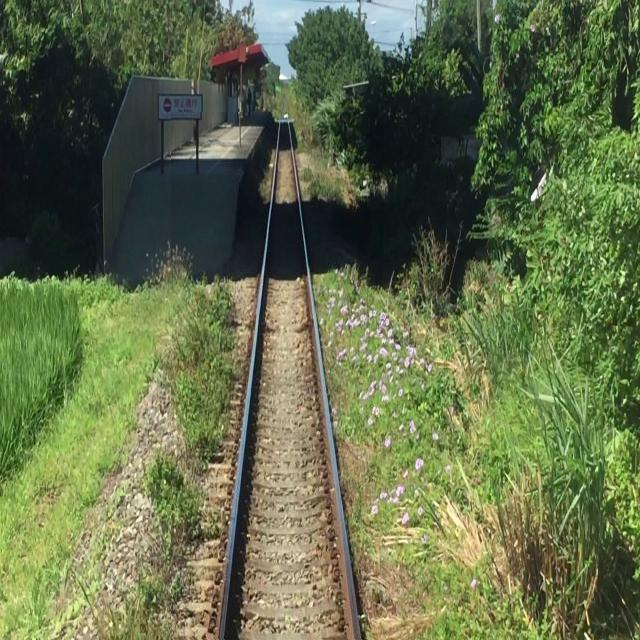rail: (173, 114, 385, 640)
